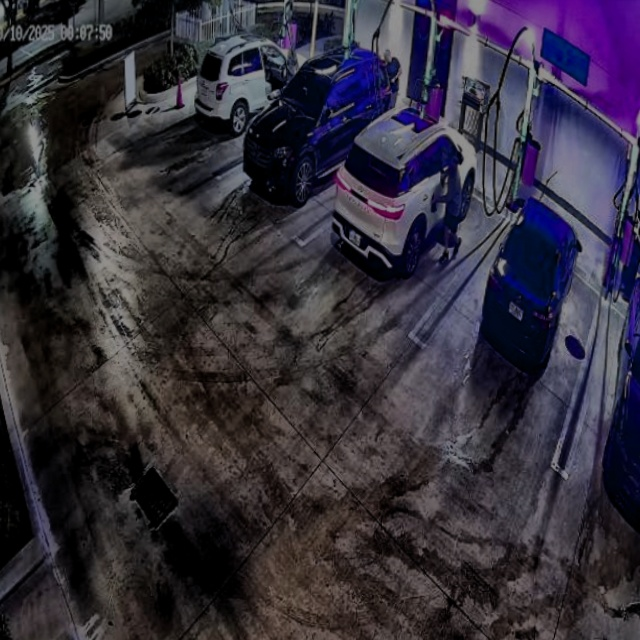Car: (329, 108, 480, 281), (245, 48, 394, 202), (479, 200, 583, 371)
